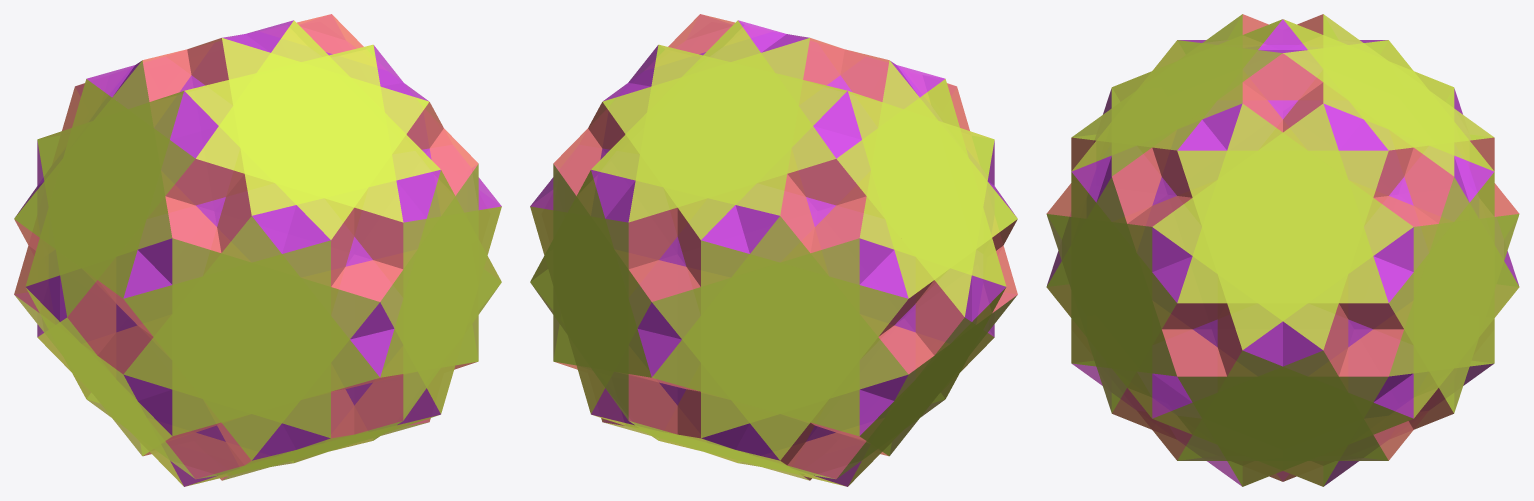
Rendered from GreatDitrigonalDodecicosidodecahedron.obj.
3 renders of one model, left to right at view 1: azimuth 30°, elevation 25°; view 2: azimuth 150°, elevation 25°; view 3: azimuth 270°, elevation 25°, orthographic. The views are drawn at different scales.
Size of the model in its own units: 2.24 by 2.24 by 2.24.
